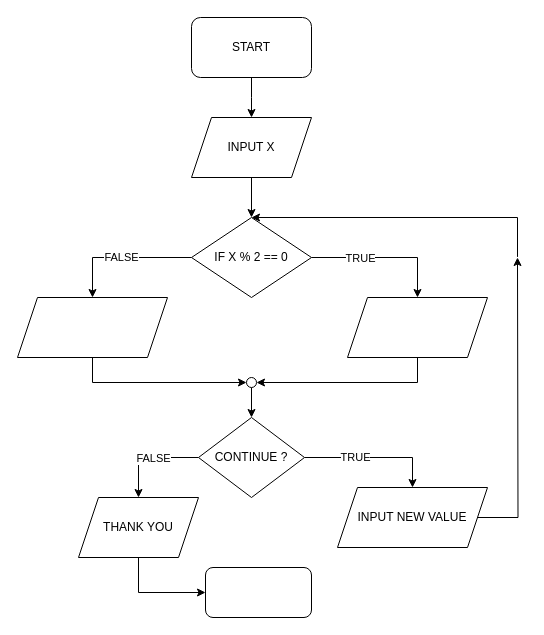
Image size: 544x635. Some labels were removed from this diagram. Here are the shapes that lost their labels. From the top down, the box of each, then its label:
(16, 296, 168, 358): PRINT "X IS ODD "
(346, 296, 488, 358): PRINT "X IS EVEN"
(204, 566, 312, 618): END
